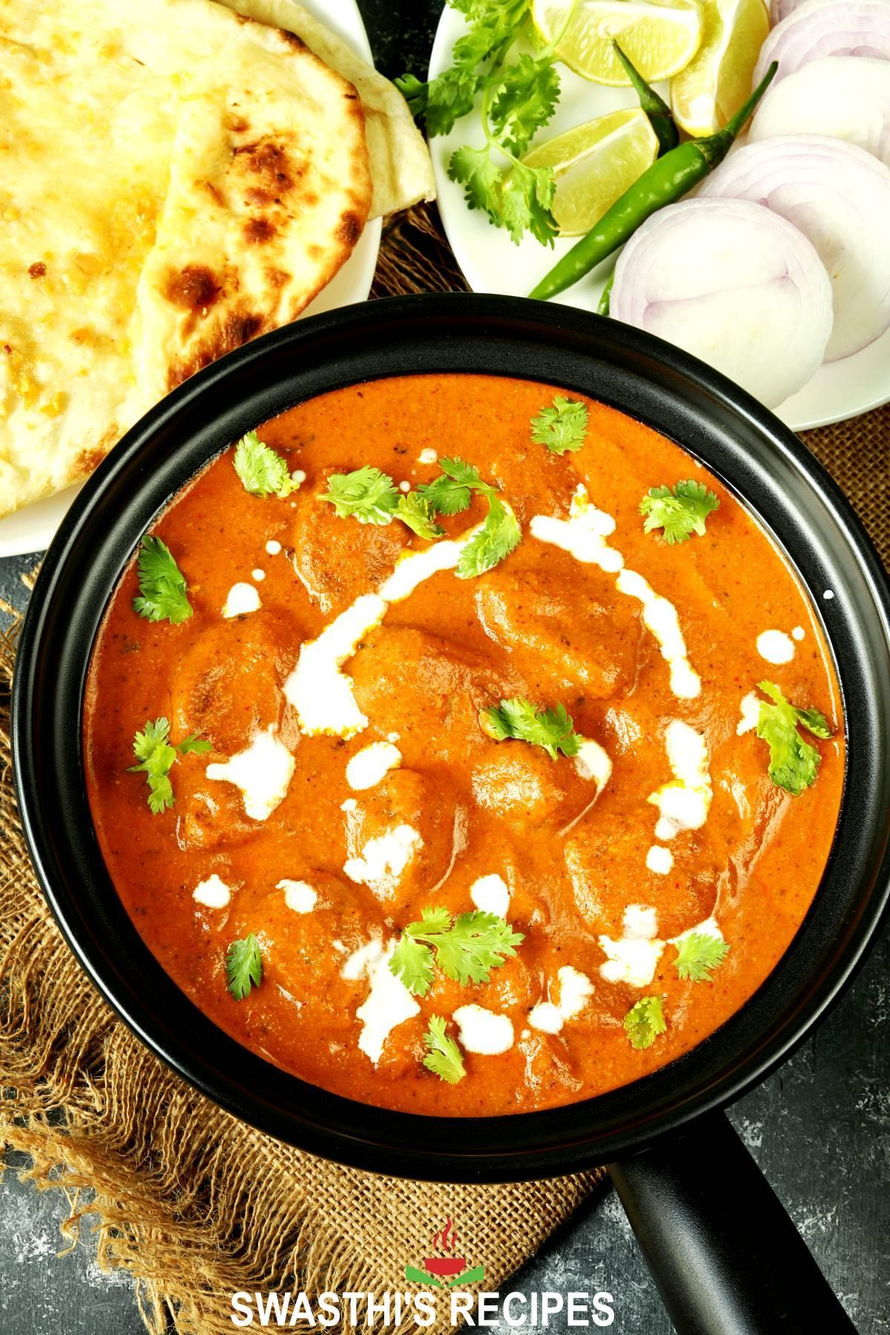chicken: (137, 458, 831, 1093)
roti: (26, 20, 393, 466)
